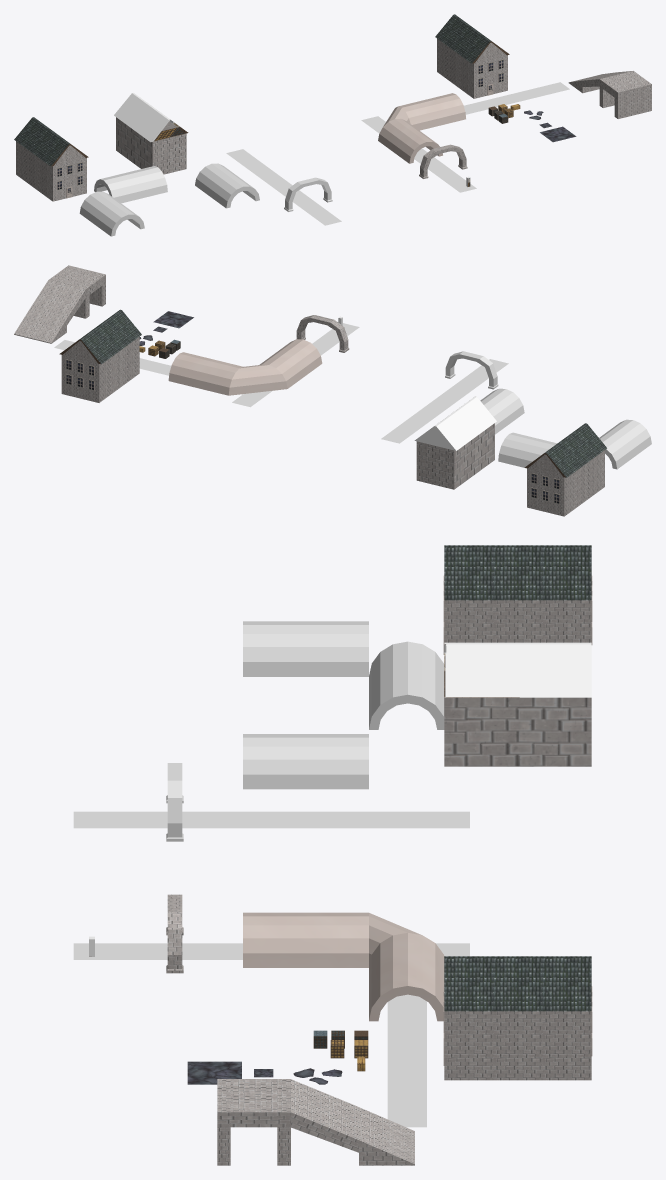
File: mapObjects.fbx
The picture shows the model from 3 angles, top to bottom: view 1: azimuth 30°, elevation 25°; view 2: azimuth 150°, elevation 25°; view 3: azimuth 270°, elevation 25°; orthographic projection. The views are drawn at different scales.
Visible parts, largest first — view 1: House, House.001, House.002, tunnel, Bridge, Cylinder.004, Plane.001, Cylinder.003, Cylinder.001, Plane.002, Plane, arc (+2 smaller); view 2: House, House.001, tunnel, House.002, Bridge, Plane.001, Cylinder.003, Cylinder.004, Cylinder.001, Plane, Cube.002, arc (+2 smaller); view 3: House, House.001, House.002, tunnel, Bridge, Cylinder.001, Cylinder.003, Plane.001, Plane.002, Cylinder.004, Plane, arc (+2 smaller).
Boxes of the visible parts, x1=… form: House: x1=435, y1=14, x2=509, y2=98; House.001: x1=114, y1=93, x2=188, y2=174; House.002: x1=14, y1=117, x2=88, y2=201; tunnel: x1=378, y1=93, x2=465, y2=163; Bridge: x1=568, y1=71, x2=651, y2=118; Cylinder.004: x1=94, y1=166, x2=167, y2=203; Plane.001: x1=226, y1=149, x2=341, y2=225; Cylinder.003: x1=79, y1=191, x2=144, y2=236; Cylinder.001: x1=195, y1=163, x2=259, y2=208; Plane.002: x1=464, y1=82, x2=569, y2=114; Plane: x1=361, y1=116, x2=476, y2=192; arc: x1=419, y1=144, x2=467, y2=178; House: x1=59, y1=309, x2=141, y2=402; House.001: x1=414, y1=396, x2=496, y2=489; tunnel: x1=168, y1=339, x2=322, y2=395; House.002: x1=525, y1=423, x2=606, y2=516; Bridge: x1=14, y1=265, x2=105, y2=343; Plane.001: x1=381, y1=359, x2=508, y2=443; Cylinder.003: x1=599, y1=419, x2=651, y2=469; Cylinder.004: x1=498, y1=432, x2=556, y2=468; Cylinder.001: x1=480, y1=388, x2=524, y2=434; Plane: x1=232, y1=323, x2=359, y2=407; Cube.002: x1=445, y1=351, x2=498, y2=389; arc: x1=296, y1=315, x2=349, y2=352; House: x1=443, y1=956, x2=592, y2=1080; House.001: x1=444, y1=642, x2=591, y2=766; House.002: x1=444, y1=545, x2=591, y2=642; tunnel: x1=243, y1=912, x2=444, y2=1021; Bridge: x1=217, y1=1079, x2=414, y2=1165; Cylinder.001: x1=243, y1=734, x2=368, y2=789; Cylinder.003: x1=243, y1=621, x2=368, y2=676; Plane.001: x1=73, y1=811, x2=469, y2=828; Plane.002: x1=387, y1=994, x2=426, y2=1127; Cylinder.004: x1=369, y1=641, x2=444, y2=729; Plane: x1=73, y1=943, x2=469, y2=959; arc: x1=166, y1=894, x2=183, y2=973.
Size of the model in its own units: 12816 by 1202 by 5286.
